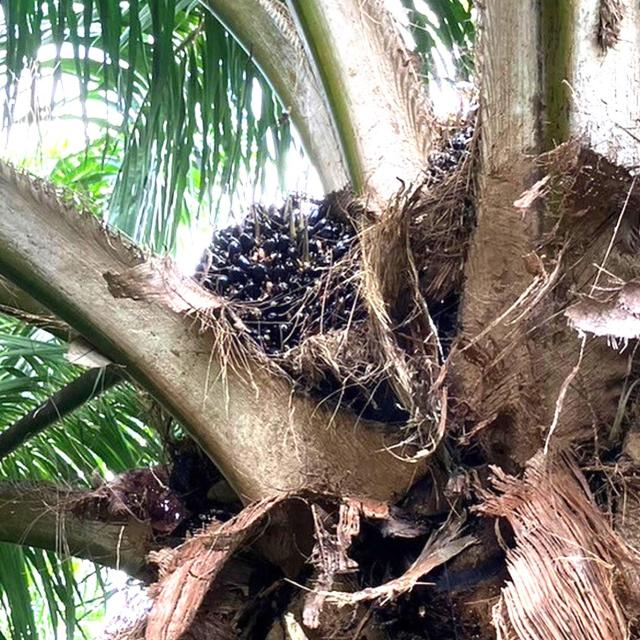unripe: (188, 198, 356, 364)
